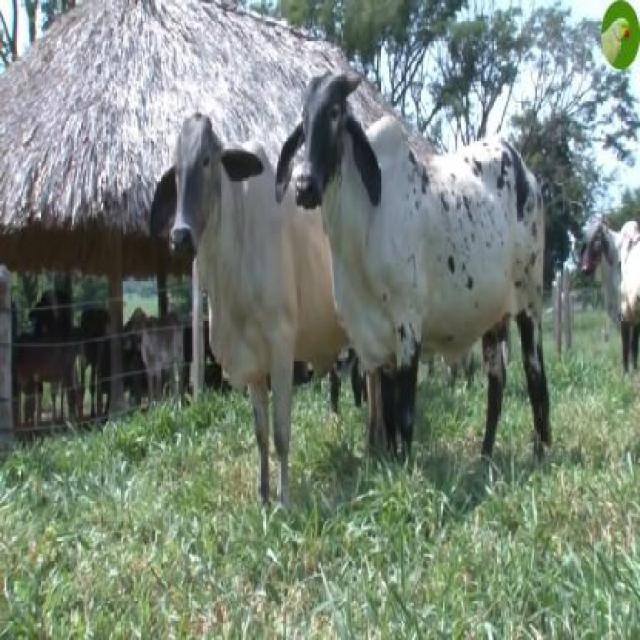Cow: (275, 65, 554, 483), (150, 105, 308, 503)
